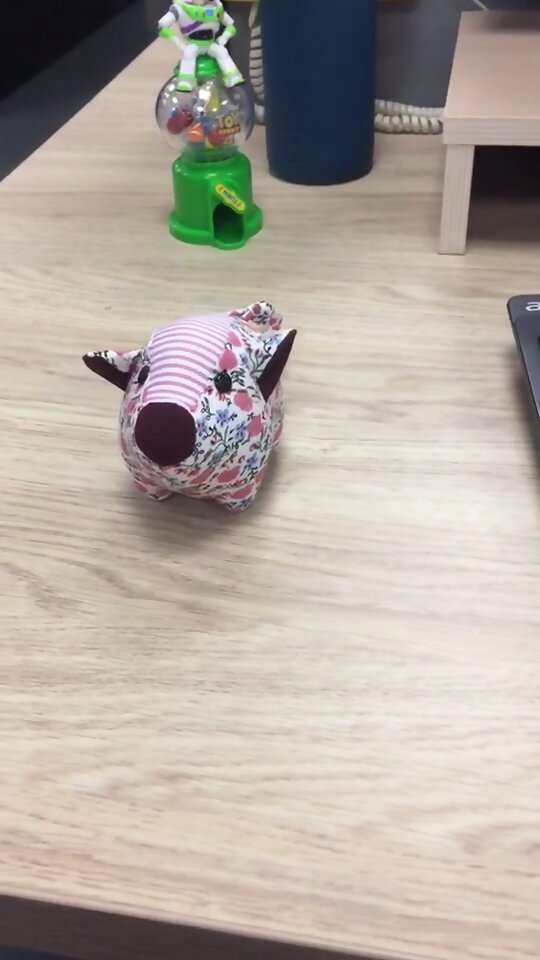pig: (80, 296, 305, 513)
